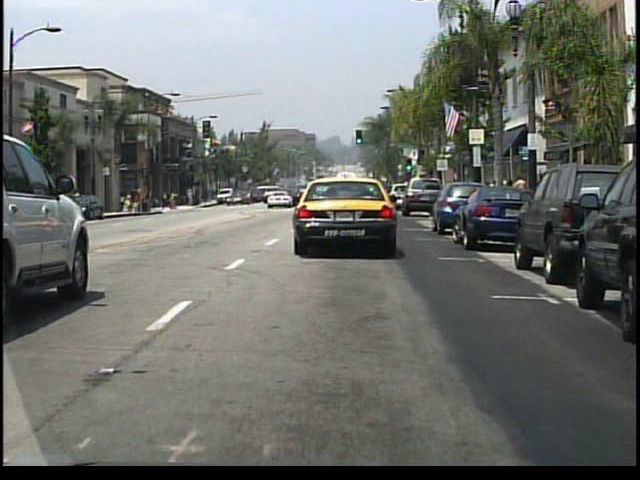person: (512, 173, 528, 214), (162, 191, 171, 211)
